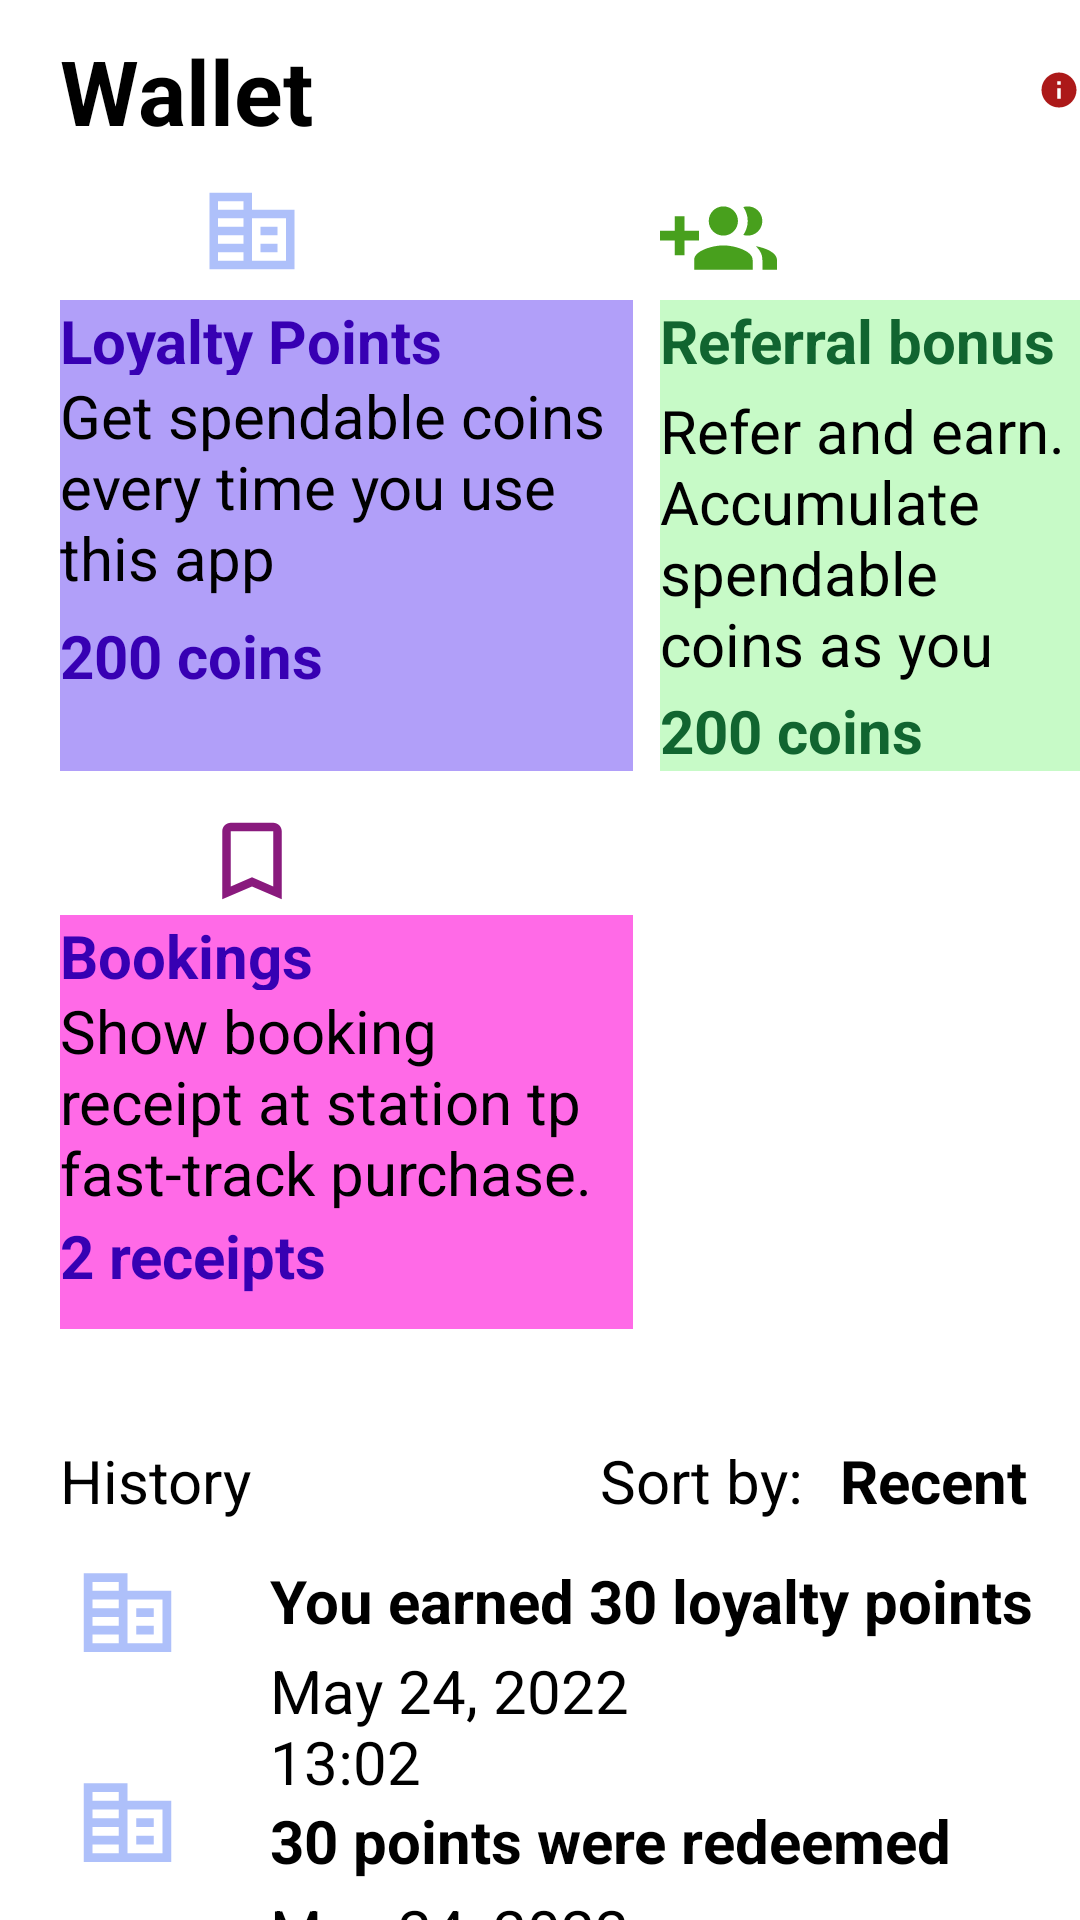

Point at icon controls on the screen. Image size 1080px x 1920px, points as (x=x, y=y).
bookmark border: (x=252, y=860)
corporate fare: (x=252, y=231), (x=127, y=1612), (x=127, y=1822)
group add: (x=718, y=238)
info: (x=1059, y=90)
